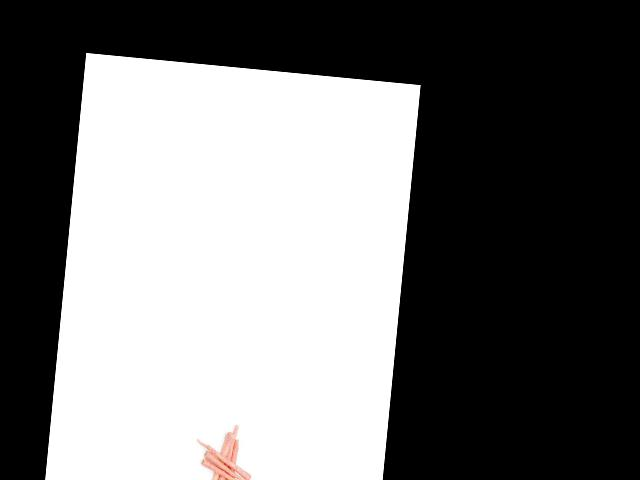carrot: (200, 461, 250, 480)
